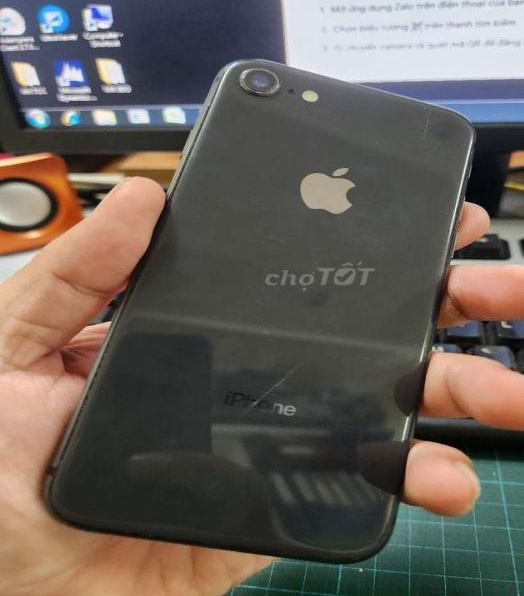scratch: (56, 316, 126, 449), (158, 97, 214, 206), (230, 355, 308, 421), (380, 417, 417, 525), (228, 60, 283, 96), (276, 536, 393, 548), (416, 100, 436, 142), (262, 233, 289, 249), (260, 322, 275, 336), (398, 214, 412, 228), (440, 235, 447, 252), (366, 136, 380, 144)
